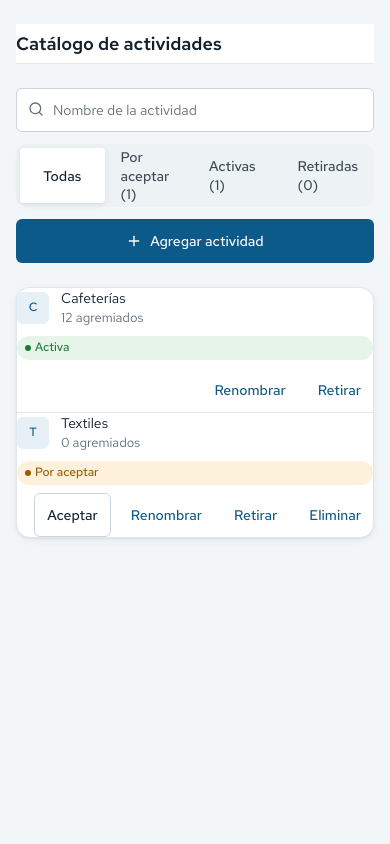
Test: ActivitiesPage › accepting a pending activity is a status change confirmed with a toast
Click the button "Aceptar": click(73, 515) x1=34 y1=493 x2=111 y2=537
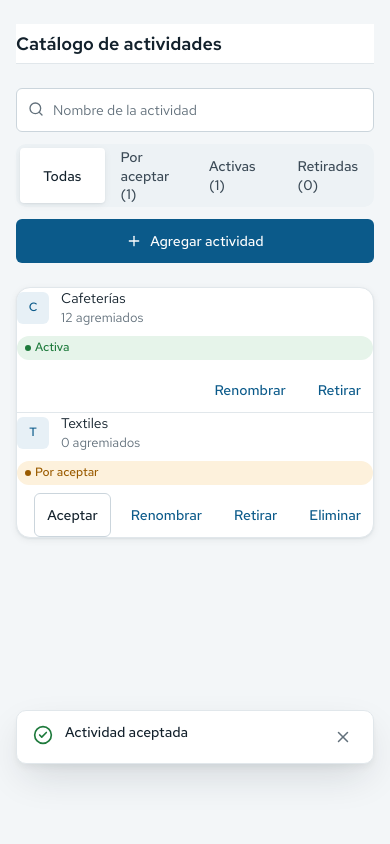
Expected: the text "Actividad aceptada" is shown, x1=65 y1=723 x2=188 y2=741
